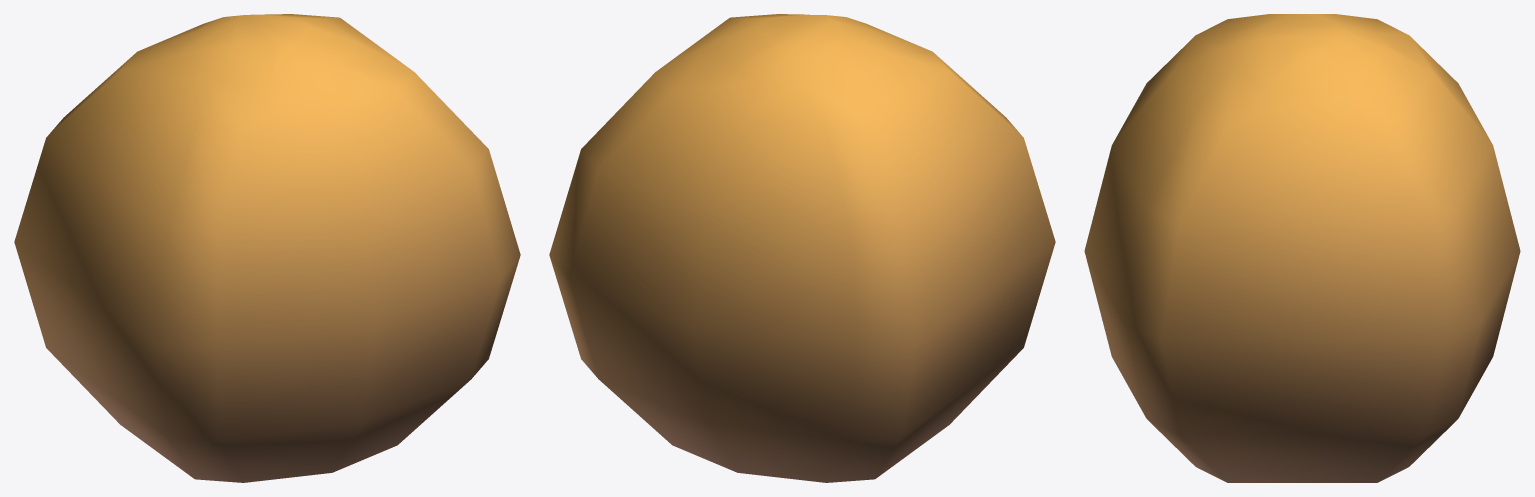
Rendered from Orange.fbx.
3 views of the same model, side by side, from view 1: azimuth 30°, elevation 25°; view 2: azimuth 150°, elevation 25°; view 3: azimuth 270°, elevation 25° (orthographic).
Parts seen in each view (by area): view 1: Orange; view 2: Orange; view 3: Orange.
Boxes of the visible parts, x1,y1,x2,y2 form: Orange: (14, 14, 520, 482); Orange: (549, 14, 1055, 482); Orange: (1084, 14, 1520, 482).
Bounding box in the file's own units: 170 × 186 × 174.
